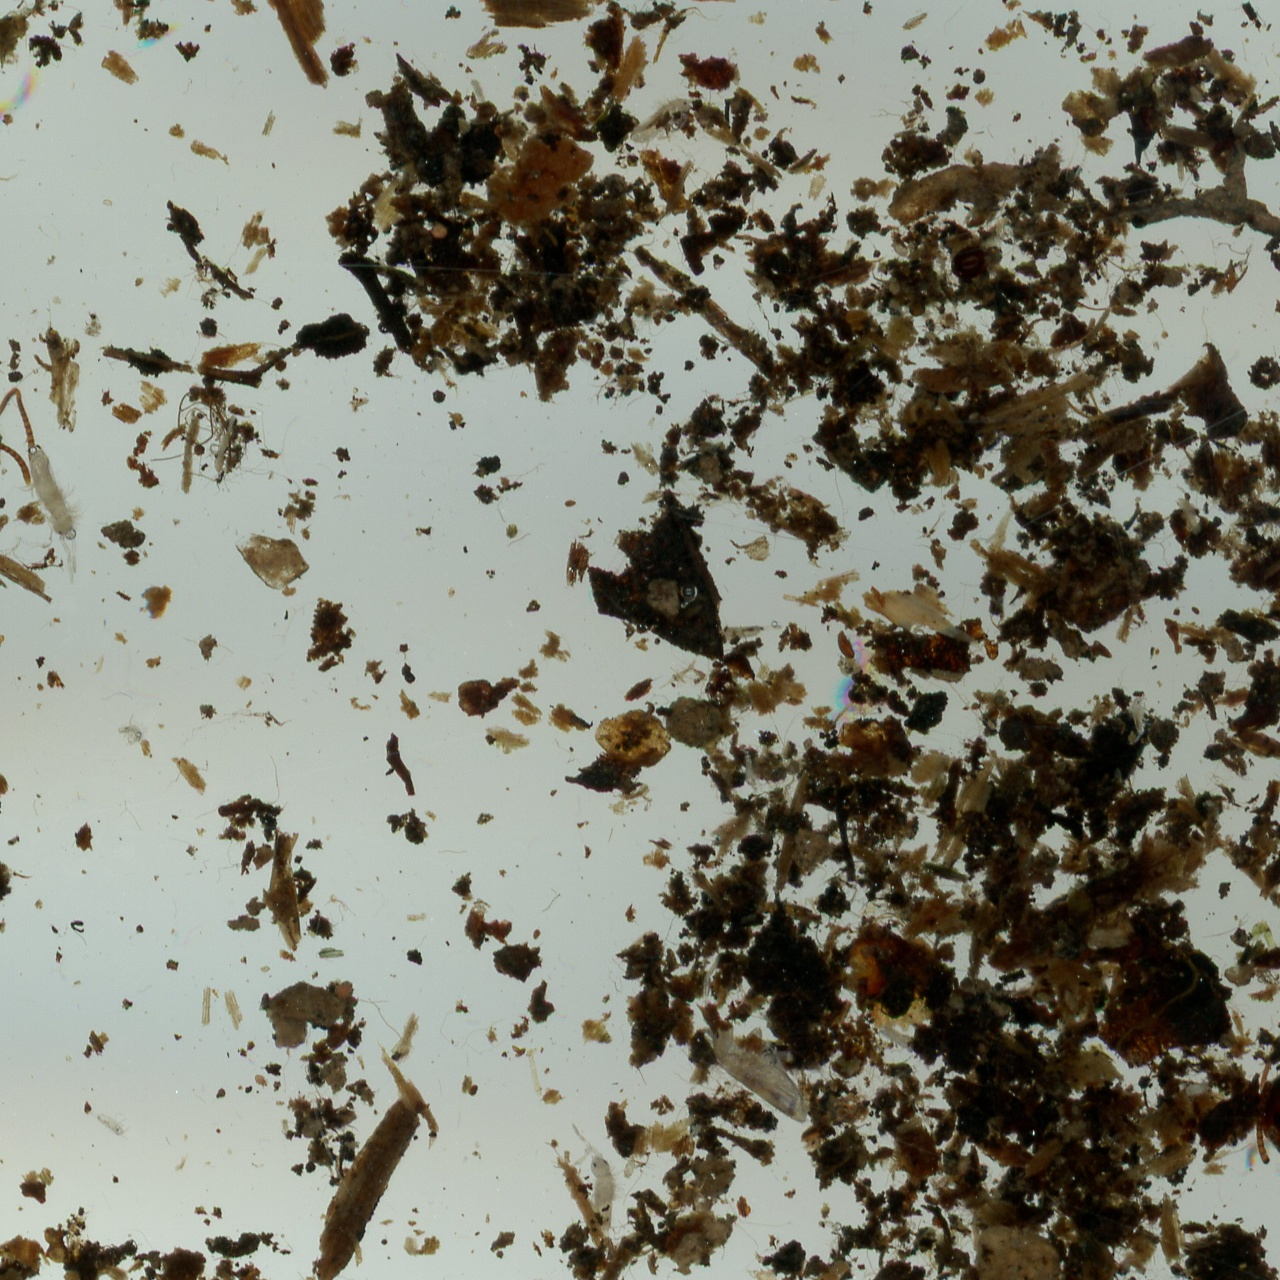arthropod: (1208, 893, 1280, 1239), (682, 990, 837, 1143), (0, 386, 70, 610), (13, 442, 104, 585), (570, 1118, 629, 1242), (628, 87, 699, 151), (80, 1096, 143, 1146), (873, 1015, 920, 1063), (737, 741, 762, 796), (1128, 694, 1152, 747), (114, 712, 149, 747), (835, 627, 858, 661), (1183, 1080, 1216, 1098), (745, 1264, 779, 1280)
